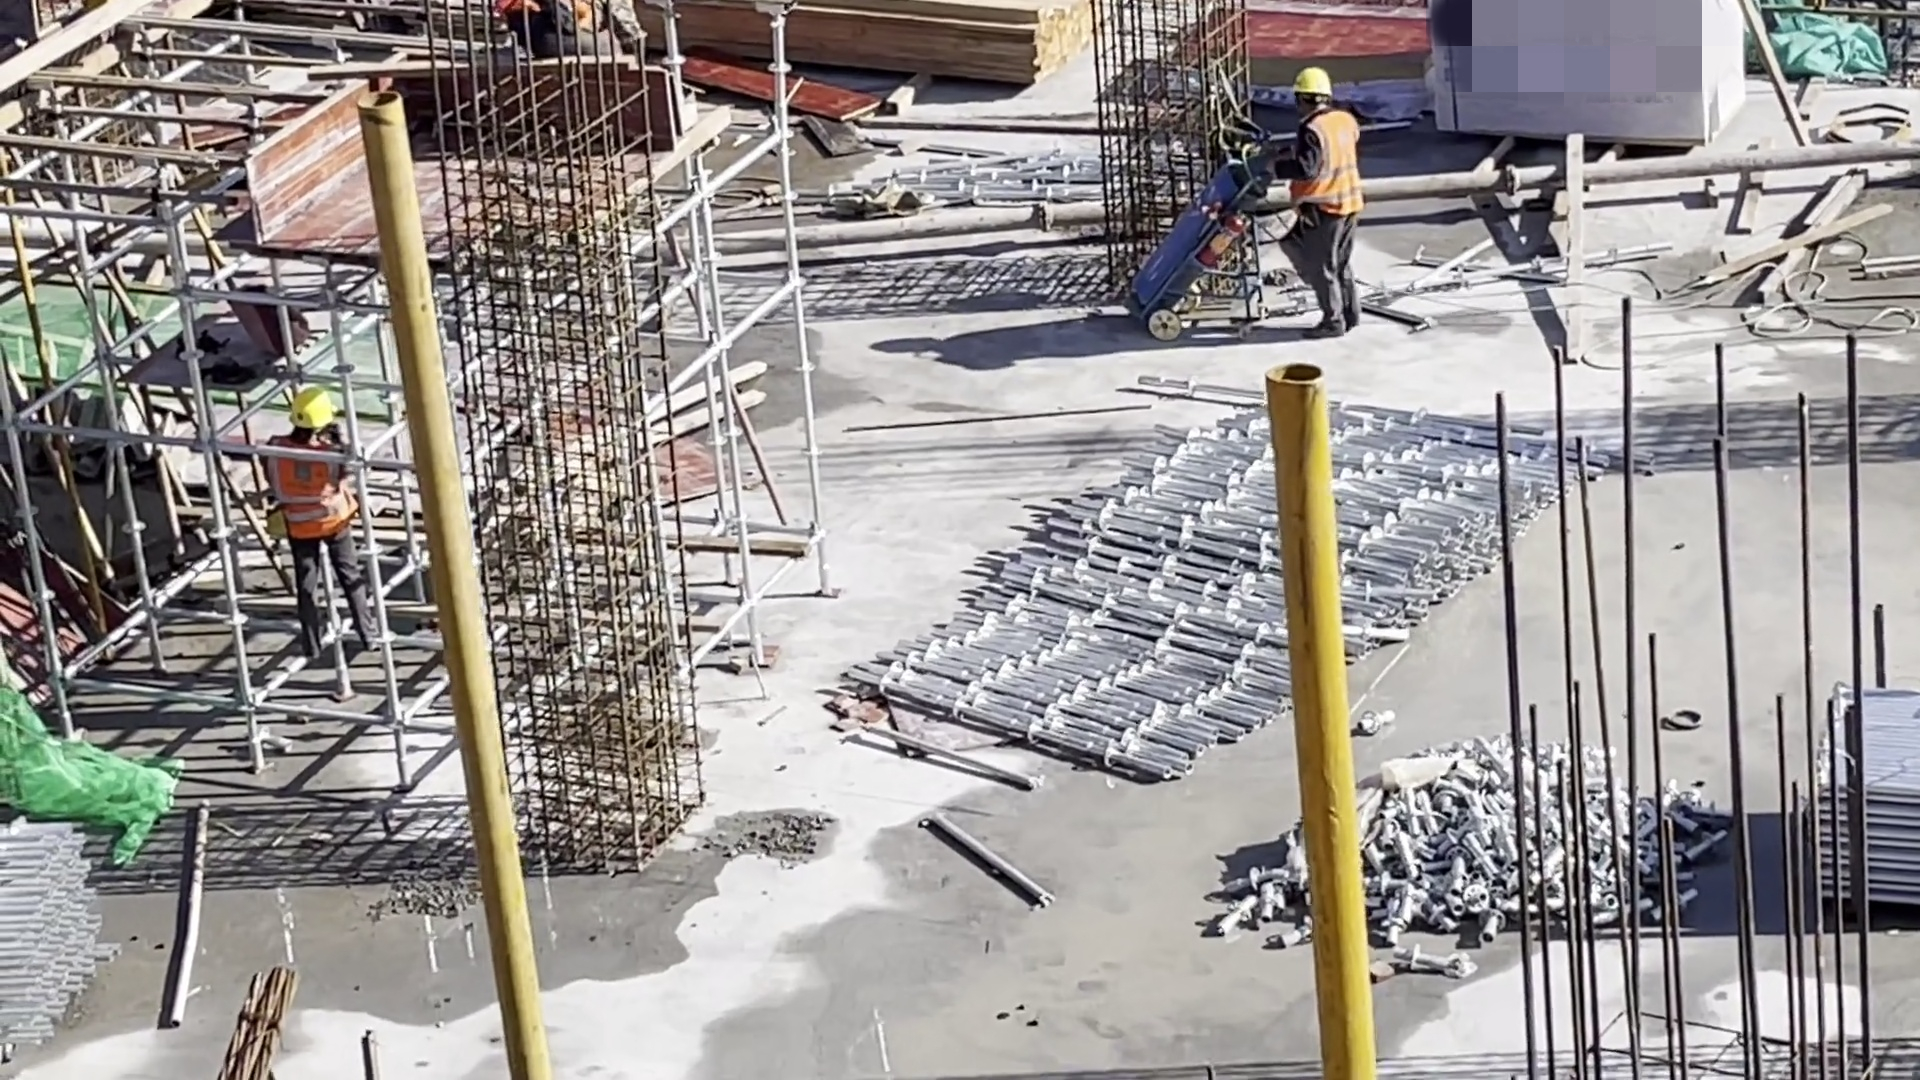helmet: (288, 388, 336, 431), (1292, 71, 1328, 106)
person: (259, 389, 389, 661), (1284, 69, 1367, 335), (488, 2, 643, 66)
scaffold: (843, 393, 1665, 782), (1817, 679, 1920, 912)
vest: (272, 436, 359, 542), (1298, 117, 1359, 224)
wood: (665, 1, 1094, 90)
